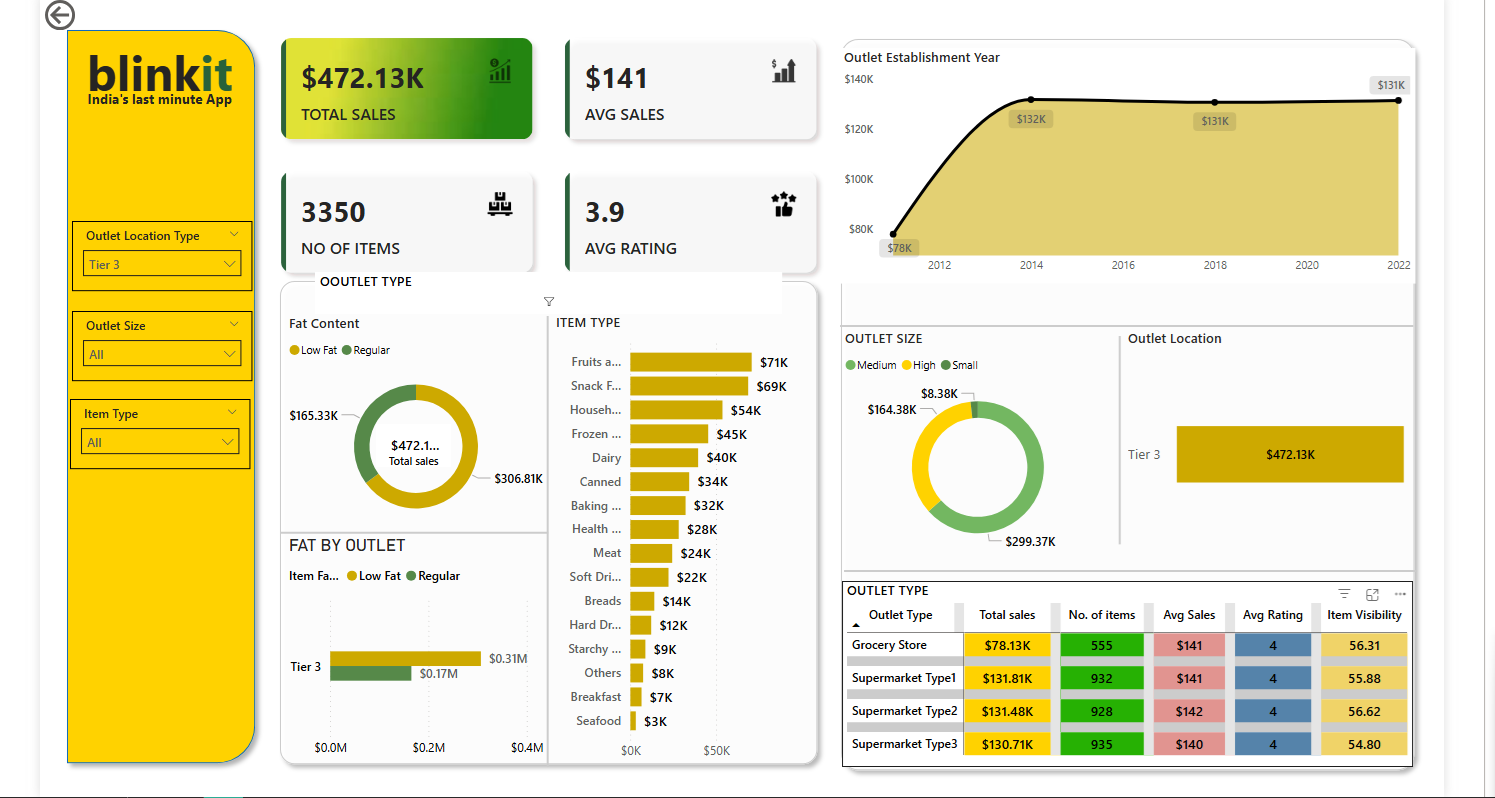

The dashboard page shown, as its layout file describes it:
{"tool":"powerbi","page":{"name":"Page 1","canvas":[1400,800],"ordinal":0},"visuals":[{"type":"shape","box":[18,26.1,205.7,749.4],"z":0},{"type":"textbox","box":[29.4,39.2,181.2,83.3],"z":1000},{"type":"textbox","box":[29.4,89.8,181.2,32.7],"z":2000},{"type":"cardVisual","fields":{"Data":["BlinkIT Grocery Data.Total sales","BlinkIT Grocery Data.Avg Sales","BlinkIT Grocery Data.No. of items","BlinkIT Grocery Data.Avg rating"]},"box":[223.7,26.1,569.8,269.4],"z":3000},{"type":"shape","box":[230,276,554,500],"z":4000},{"type":"donutChart","title":"Fat Content","fields":{"Y":["BlinkIT Grocery Data.Total sales"],"Category":["BlinkIT Grocery Data.Item Fat Content"]},"box":[243.3,318.3,263.3,220],"z":5000},{"type":"slicer","title":"OOUTLET TYPE","fields":{"Values":["Metrics.Metrics"]},"box":[274,276,466,42],"z":6000},{"type":"cardVisual","fields":{"Data":["BlinkIT Grocery Data.Total sales"]},"box":[330,423.3,85,53.3],"z":7000},{"type":"clusteredBarChart","title":"FAT BY OUTLET","fields":{"Y":["BlinkIT Grocery Data.Total sales"],"Category":["BlinkIT Grocery Data.Outlet Location Type"],"Series":["BlinkIT Grocery Data.Item Fat Content"]},"box":[243.3,538.3,265,230],"z":8000},{"type":"shape","box":[240,528.9,266.7,15.6],"z":9000},{"type":"shape","box":[500,320,13.3,450],"z":10000},{"type":"barChart","title":"ITEM TYPE","fields":{"Y":["BlinkIT Grocery Data.Total sales"],"Category":["BlinkIT Grocery Data.Item Type"]},"box":[510,317.5,265,455],"z":11000},{"type":"shape","box":[790,35,590,747.5],"z":12000},{"type":"lineChart","title":"Outlet Establishment Year","fields":{"Category":["BlinkIT Grocery Data.Outlet Establishment Year"],"Y":["BlinkIT Grocery Data.Total sales"]},"box":[797.5,52.5,575,235],"z":13000},{"type":"shape","box":[797.8,320,572.2,20],"z":14000},{"type":"donutChart","title":"OUTLET SIZE","fields":{"Y":["BlinkIT Grocery Data.Total sales"],"Category":["BlinkIT Grocery Data.Outlet Size"]},"box":[798.3,333.3,275,231.7],"z":15000},{"type":"shape","box":[1070,340,13.3,208.3],"z":16000},{"type":"funnel","title":"Outlet Location","fields":{"Category":["BlinkIT Grocery Data.Outlet Location Type"],"Y":["BlinkIT Grocery Data.Total sales"]},"box":[1080,333.3,290,231.7],"z":17000},{"type":"shape","box":[801.7,565,571.7,20],"z":18000},{"type":"pivotTable","title":"OUTLET TYPE","fields":{"Values":["BlinkIT Grocery Data.Total sales","BlinkIT Grocery Data.No. of items","BlinkIT Grocery Data.Avg Sales","BlinkIT Grocery Data.Avg rating","Sum(BlinkIT Grocery Data.Item Visibility)"],"Rows":["BlinkIT Grocery Data.Outlet Type"]},"box":[800,585,570,185],"z":19000},{"type":"slicer","fields":{"Values":["BlinkIT Grocery Data.Outlet Location Type"]},"box":[31.7,225,180,70],"z":20000},{"type":"slicer","fields":{"Values":["BlinkIT Grocery Data.Outlet Size"]},"box":[31.7,315,180,70],"z":21000},{"type":"slicer","fields":{"Values":["BlinkIT Grocery Data.Item Type"]},"box":[30,403.3,180,70],"z":22000},{"type":"actionButton","box":[0,0,100,40],"z":23000}]}

Visuals, with their boxes on the page's 1400x800 design canvas (x1, y1, x2, y2). These are canvas units, not pixel positions in the 1495x798 screenshot, which may show the page scaled, cropped or inside an application window:
shape: left=18, top=26, right=224, bottom=776
textbox: left=29, top=39, right=211, bottom=122
textbox: left=29, top=90, right=211, bottom=122
cardVisual - BlinkIT Grocery Data.Total sales x BlinkIT Grocery Data.Avg Sales: left=224, top=26, right=794, bottom=296
shape: left=230, top=276, right=784, bottom=776
"Fat Content" donutChart: left=243, top=318, right=507, bottom=538
"OOUTLET TYPE" slicer: left=274, top=276, right=740, bottom=318
cardVisual - BlinkIT Grocery Data.Total sales: left=330, top=423, right=415, bottom=477
"FAT BY OUTLET" clusteredBarChart: left=243, top=538, right=508, bottom=768
shape: left=240, top=529, right=507, bottom=544
shape: left=500, top=320, right=513, bottom=770
"ITEM TYPE" barChart: left=510, top=318, right=775, bottom=772
shape: left=790, top=35, right=1380, bottom=782
"Outlet Establishment Year" lineChart: left=798, top=52, right=1372, bottom=288
shape: left=798, top=320, right=1370, bottom=340
"OUTLET SIZE" donutChart: left=798, top=333, right=1073, bottom=565
shape: left=1070, top=340, right=1083, bottom=548
"Outlet Location" funnel: left=1080, top=333, right=1370, bottom=565
shape: left=802, top=565, right=1373, bottom=585
"OUTLET TYPE" pivotTable: left=800, top=585, right=1370, bottom=770
slicer - BlinkIT Grocery Data.Outlet Location Type: left=32, top=225, right=212, bottom=295
slicer - BlinkIT Grocery Data.Outlet Size: left=32, top=315, right=212, bottom=385
slicer - BlinkIT Grocery Data.Item Type: left=30, top=403, right=210, bottom=473
actionButton: left=0, top=0, right=100, bottom=40
